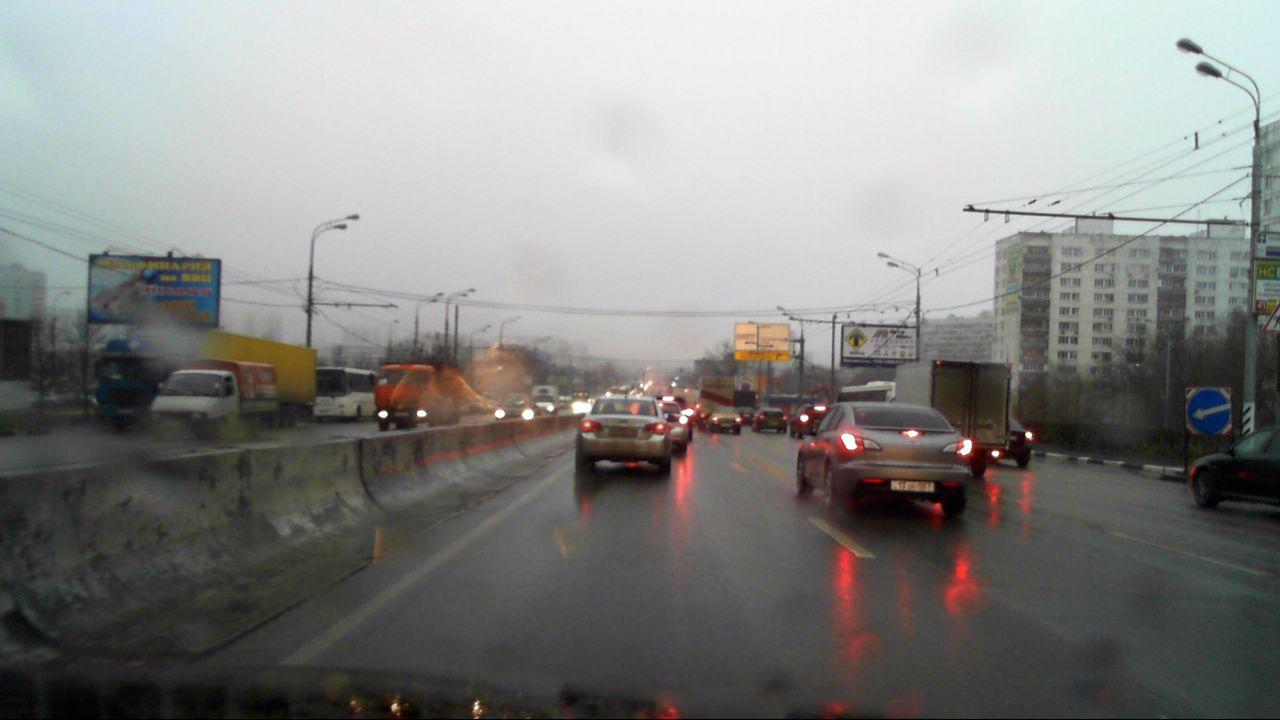4_2_2: (1184, 386, 1232, 433)
